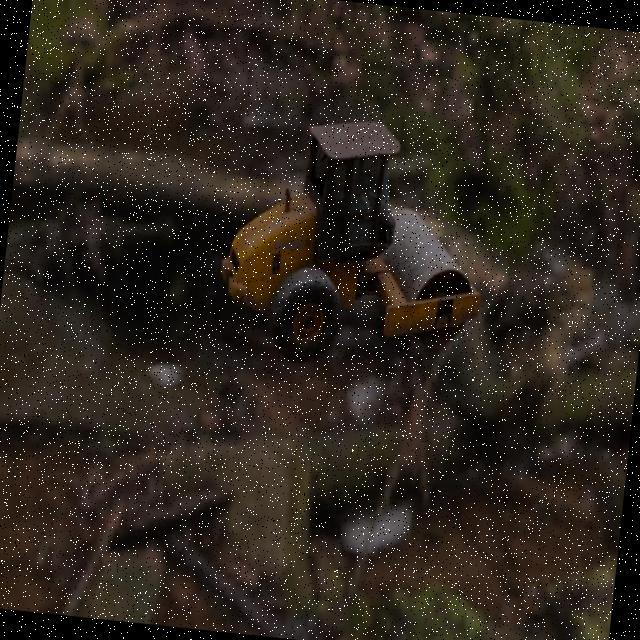Roller: (210, 105, 497, 382)
